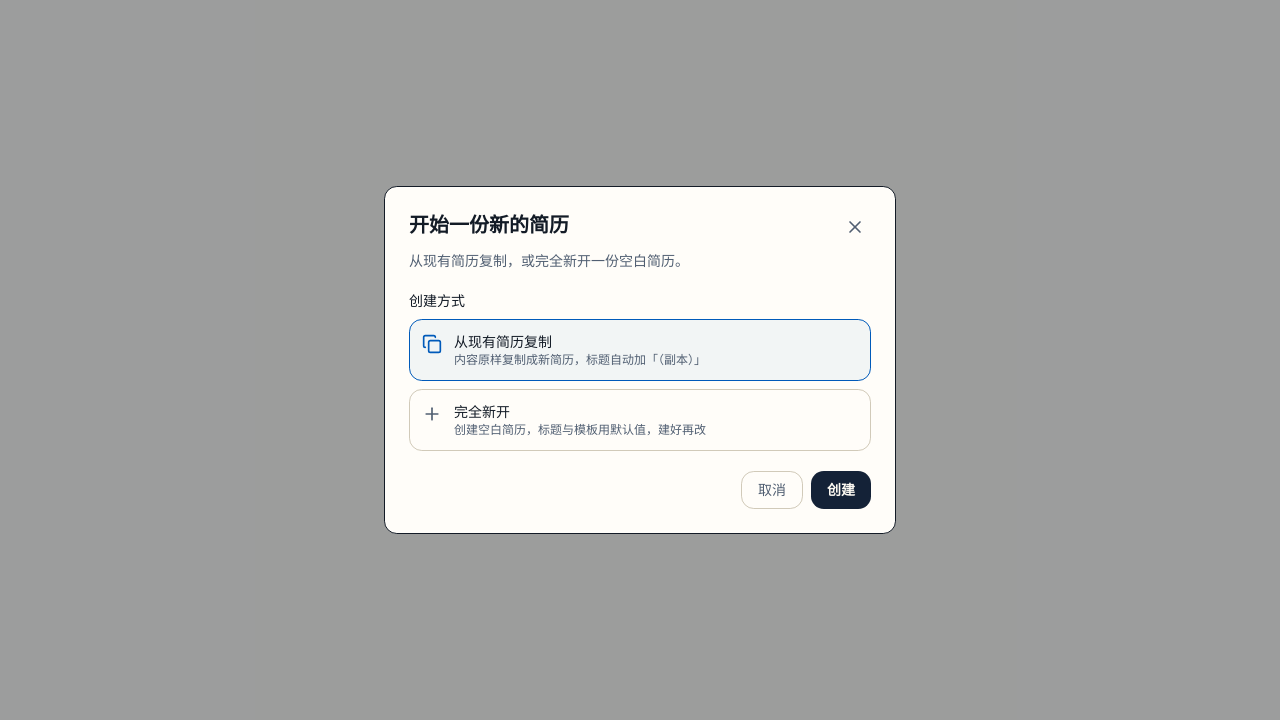
Test: 创建简历 Modal：两条链路 › 点击创建不直接复制，而是先进入简历选择层，且只列活跃简历
This screenshot has width=1280, height=720.
Step 1. Click the button "创建" → (841, 490), box [811,471,871,509]
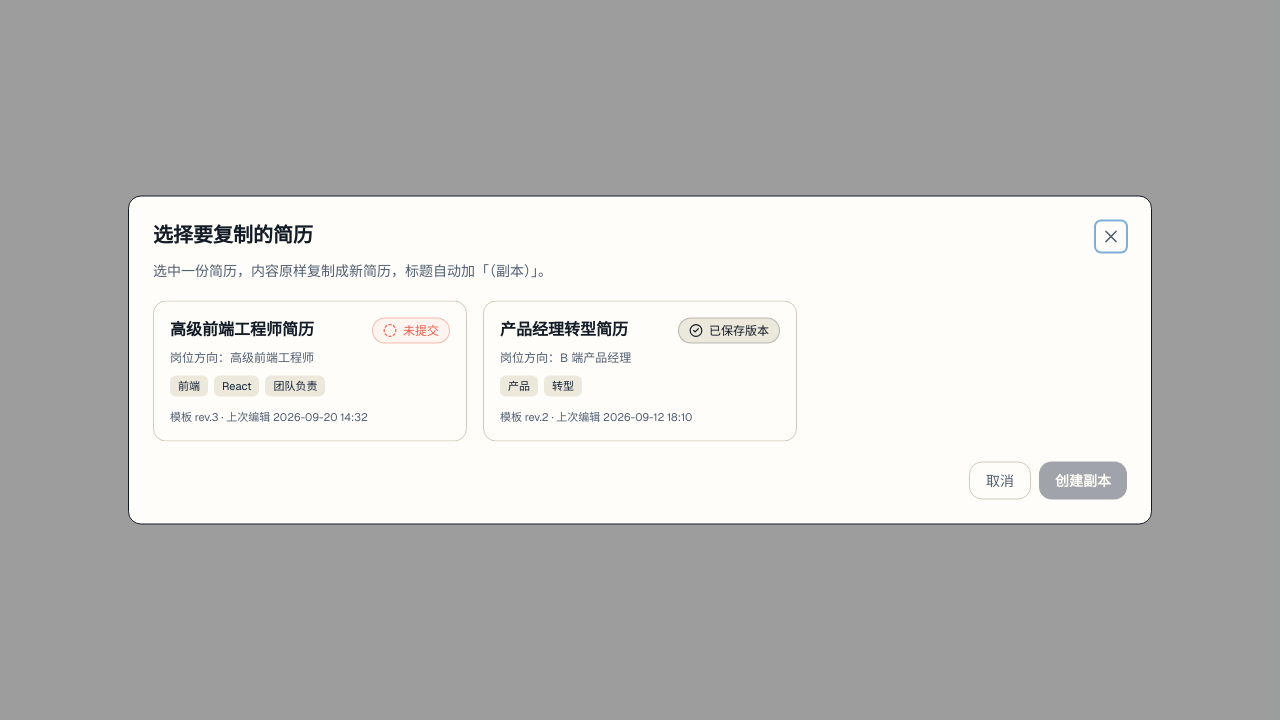
expect the dialog "选择要复制的简历" is shown: met, box [128,196,1152,524]
expect the button "高级前端工程师简历" is shown: met, box [153,300,467,442]
expect the button "产品经理转型简历" is shown: met, box [483,300,797,442]
